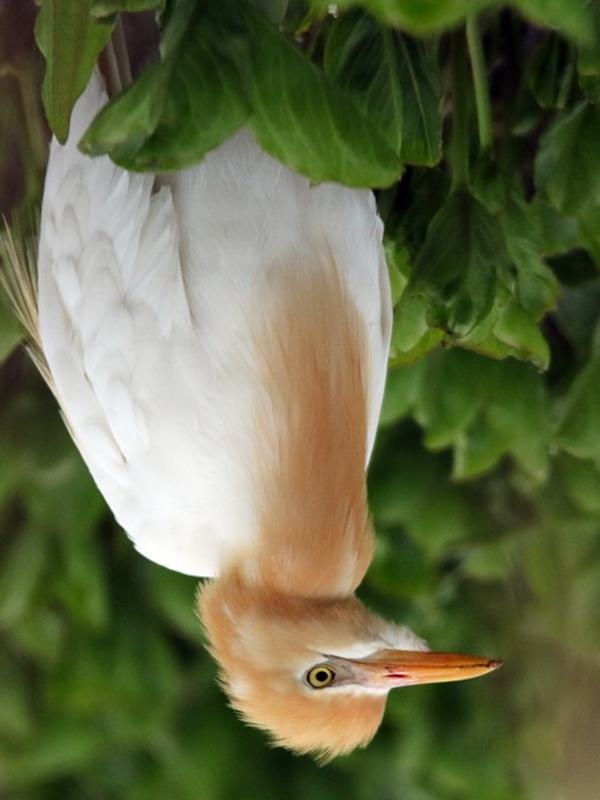egret: (30, 86, 509, 772)
